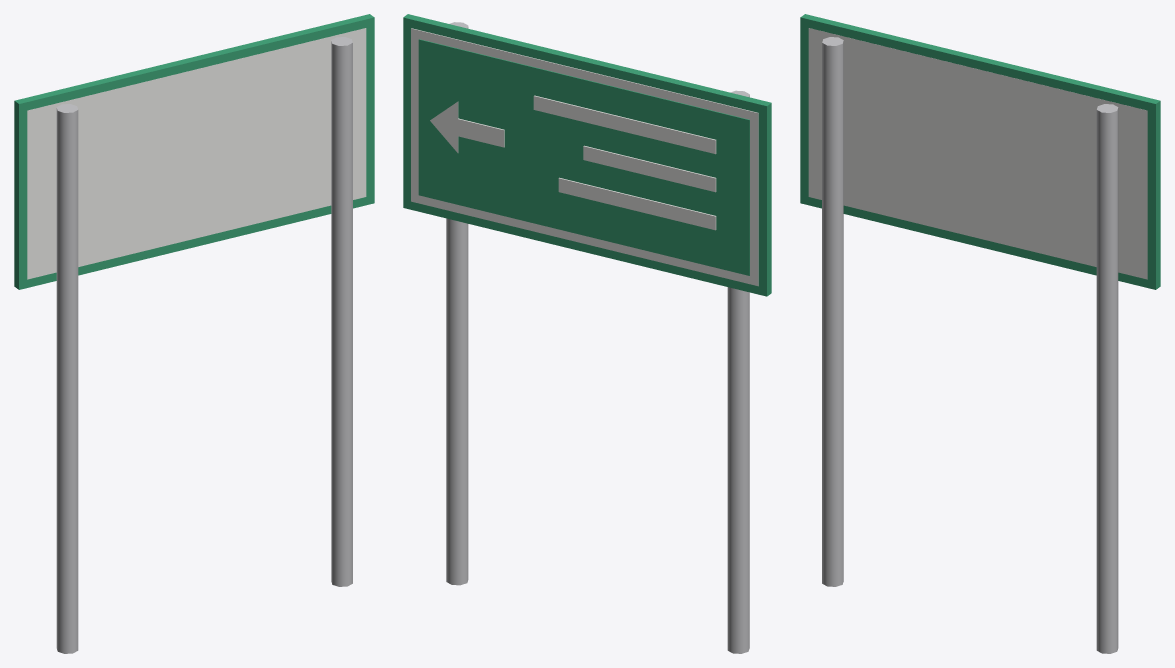
File: sign_direction.glb
3 views of the same model, side by side, from view 1: azimuth 30°, elevation 25°; view 2: azimuth 150°, elevation 25°; view 3: azimuth 330°, elevation 25° (orthographic). The views are drawn at different scales.
Parts seen in each view (by area): view 1: sign_direction; view 2: sign_direction; view 3: sign_direction.
Part boxes in pixels (x1,y1,x2,y2): sign_direction: [14, 14, 374, 653]; sign_direction: [403, 14, 771, 653]; sign_direction: [800, 14, 1160, 653].
Size of the model in its own units: 2.2 by 3.25 by 0.2125.
